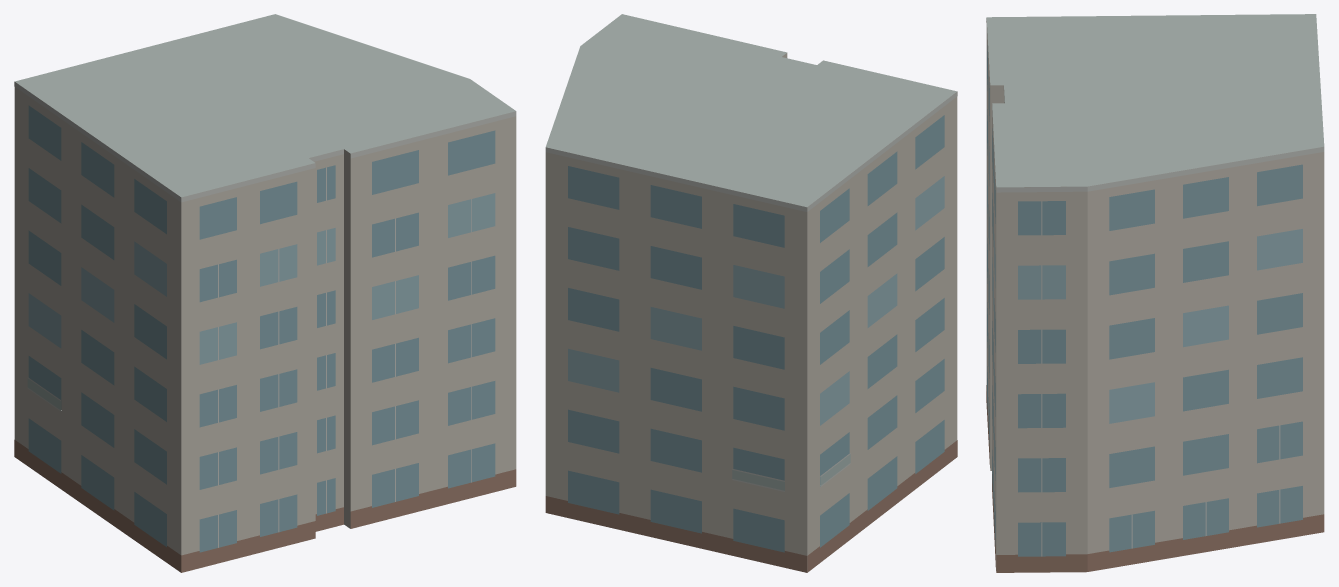
Rendered from survey-upis-32916038.glb.
3 views of the same model, side by side, from view 1: azimuth 30°, elevation 25°; view 2: azimuth 150°, elevation 25°; view 3: azimuth 270°, elevation 25° (orthographic). The views are drawn at different scales.
Parts seen in each view (by area): view 1: survey-upis-32916038.tmp; view 2: survey-upis-32916038.tmp; view 3: survey-upis-32916038.tmp.
Part boxes in pixels (x1,y1,x2,y2): survey-upis-32916038.tmp: [14, 14, 516, 572]; survey-upis-32916038.tmp: [545, 14, 957, 572]; survey-upis-32916038.tmp: [986, 14, 1324, 572].
Bounding box in the file's own units: 17.67 × 18.3 × 14.54.
